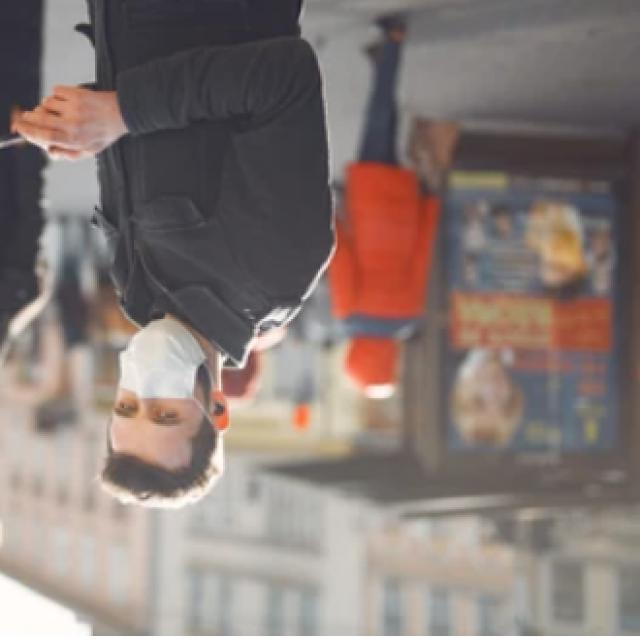face_mask: (104, 329, 227, 488)
